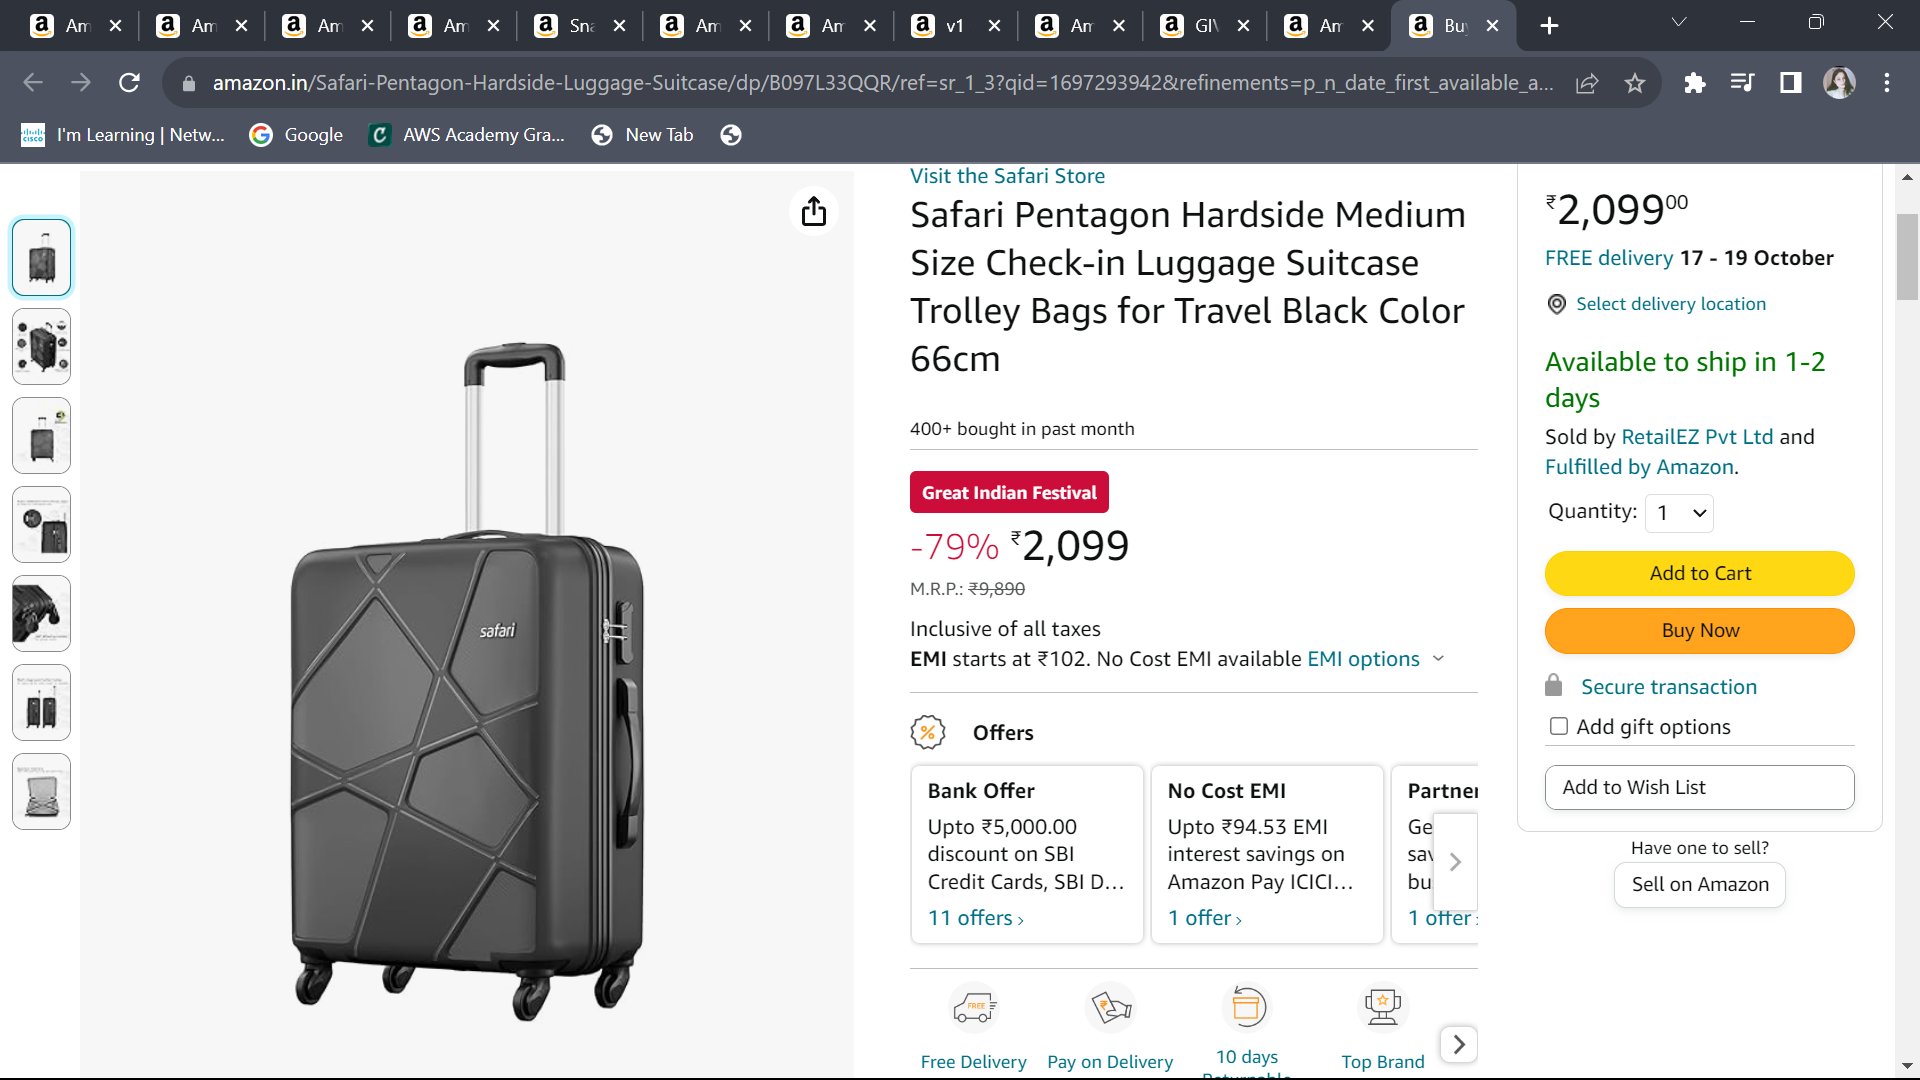Image: (227, 290, 779, 1080)
Paragraph: (866, 690, 1505, 949), (884, 200, 1481, 392), (1511, 538, 1894, 657), (887, 526, 1185, 642), (881, 642, 1455, 696), (1526, 753, 1854, 818), (1523, 663, 1816, 735), (1528, 352, 1861, 411), (1516, 418, 1851, 475), (1523, 167, 1768, 229), (1523, 248, 1857, 290), (902, 418, 1188, 463), (1540, 295, 1804, 323), (1532, 496, 1741, 526), (895, 170, 1126, 191)
